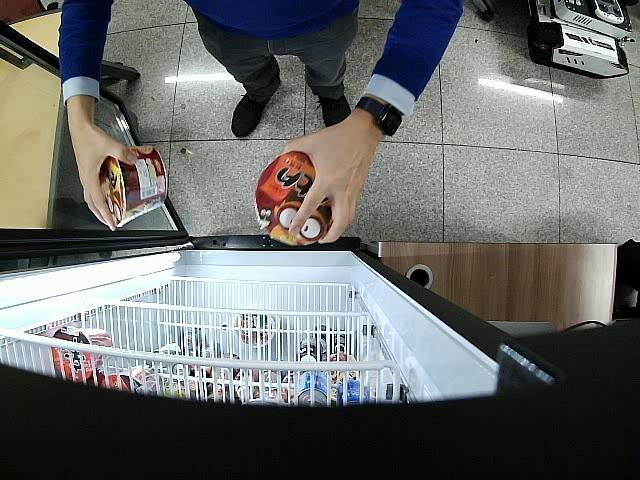05_nuguri_L: (255, 151, 332, 246), (99, 146, 167, 227)
